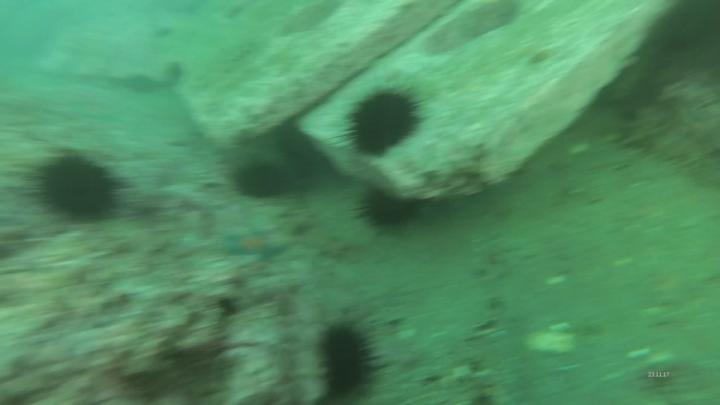echinus: (34, 151, 127, 226), (340, 86, 428, 158), (315, 315, 383, 405), (352, 183, 425, 236), (230, 157, 294, 199)
starfish: (211, 223, 299, 266)
